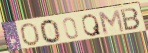0: (62, 17, 80, 41)
B: (120, 7, 143, 32)
M: (97, 8, 127, 35)
O: (39, 19, 63, 45), (19, 22, 42, 47)
Q: (81, 13, 103, 38)
